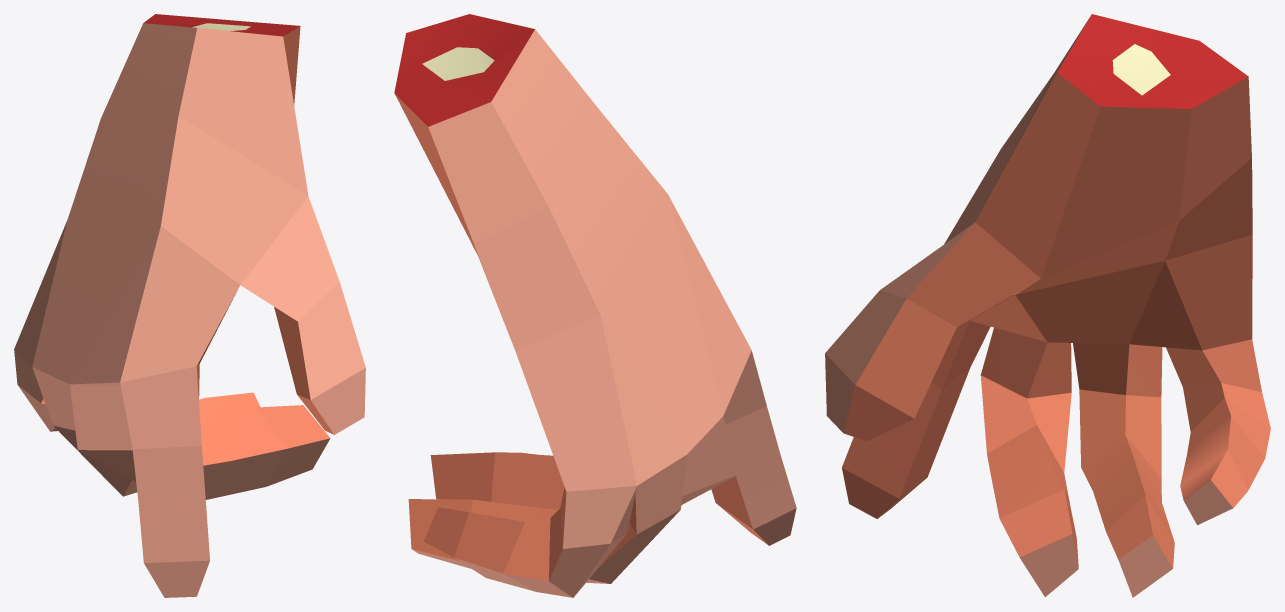
Rendered from RHAND.fbx.
3 views of the same model, side by side, from view 1: azimuth 30°, elevation 25°; view 2: azimuth 150°, elevation 25°; view 3: azimuth 270°, elevation 25° (orthographic). The views are drawn at different scales.
Parts seen in each view (by area): view 1: Cube; view 2: Cube; view 3: Cube.
Boxes of the visible parts, box(x1,y1,x2,y2) form: Cube: box(14, 14, 365, 597); Cube: box(394, 14, 796, 597); Cube: box(825, 14, 1270, 597).
Size of the model in its own units: 45.75 by 81.97 by 59.08.
Materials: 1 (1 with a texture image).
